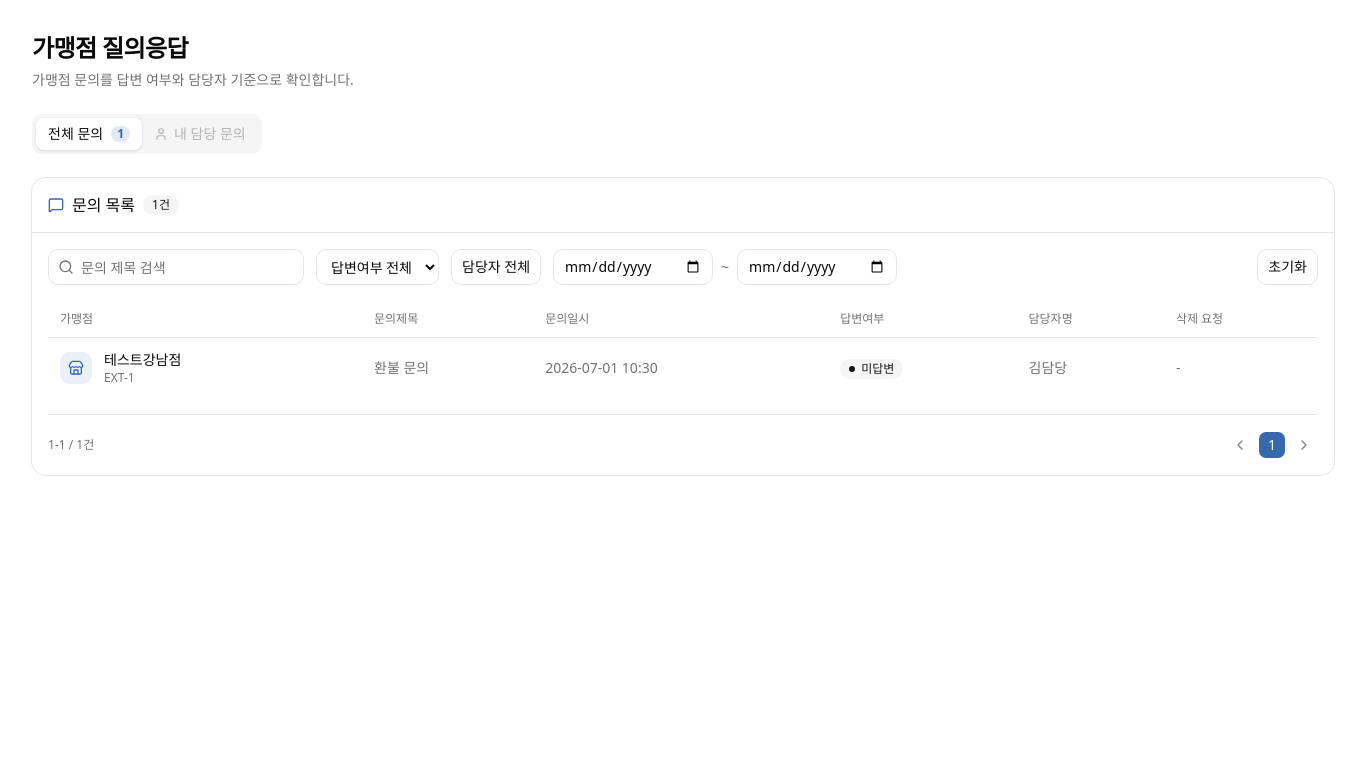
Test: FranchiseInquiryListPage (F1617) - 담당자 필터 › 담당자 버튼 클릭 시 EmployeePicker 다이얼로그가 열린다
Expected: the text "환불 문의" is shown, [362,338,533,398]
What coordinates should you click on to do the following:
click the button "담당자 전체"
I would click on:
 (496, 267)
Its box is [451,249,541,285].
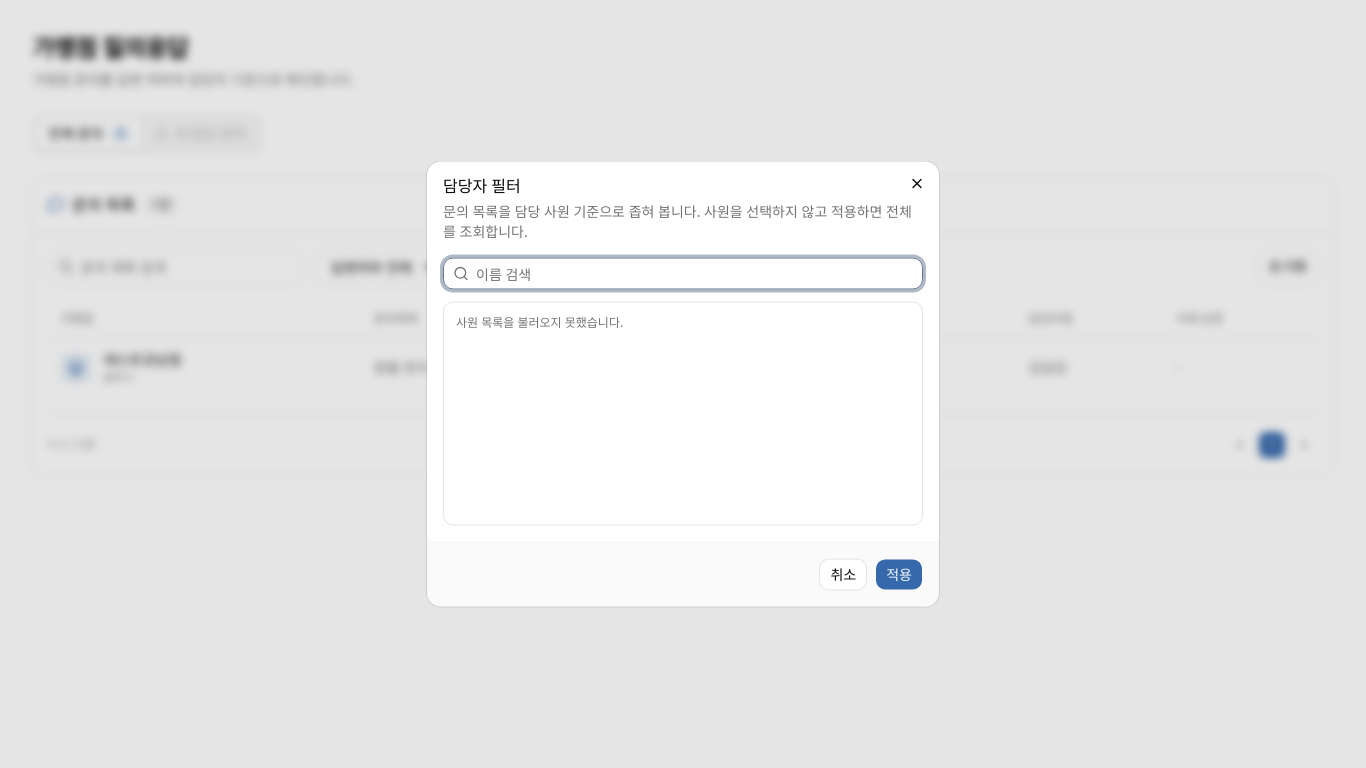
Now the heading "담당자 필터" is shown, box [443,174,521,196]
